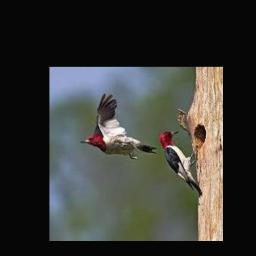Woodpecker: (80, 93, 157, 159), (158, 130, 202, 197)
